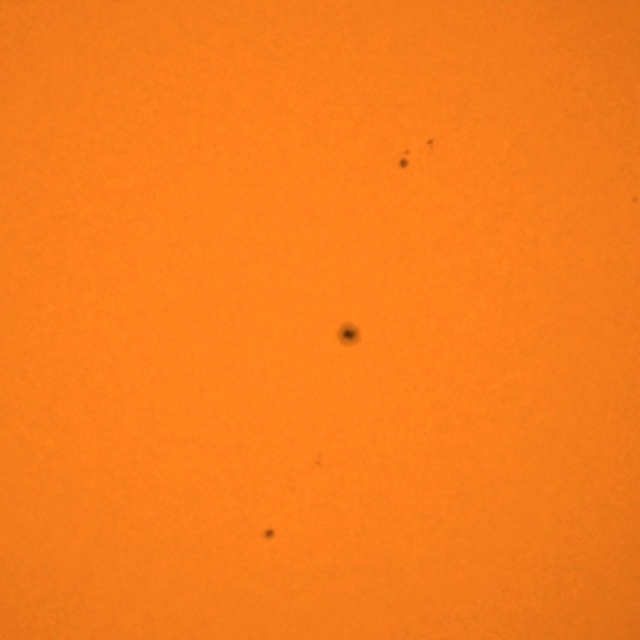sunspot: (335, 320, 364, 350), (397, 148, 412, 171), (261, 527, 277, 542), (312, 456, 324, 471), (425, 137, 435, 148), (631, 194, 640, 206)
